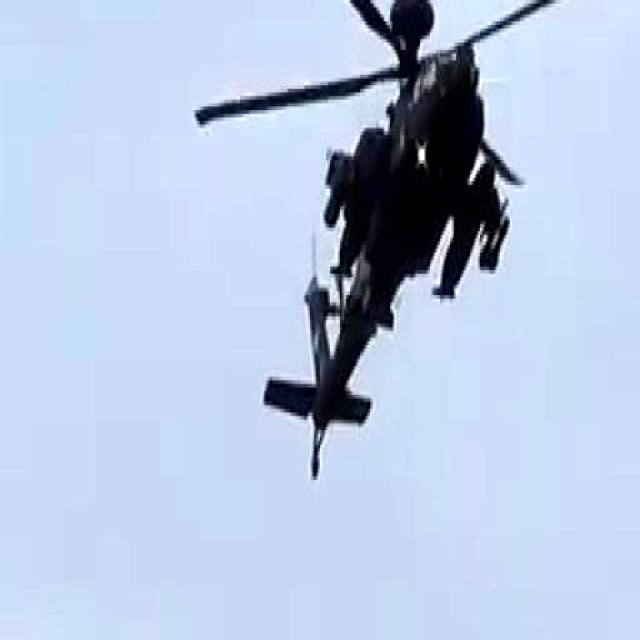drone: (189, 0, 640, 456)
